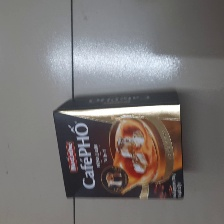CF pho: (53, 88, 185, 202)
